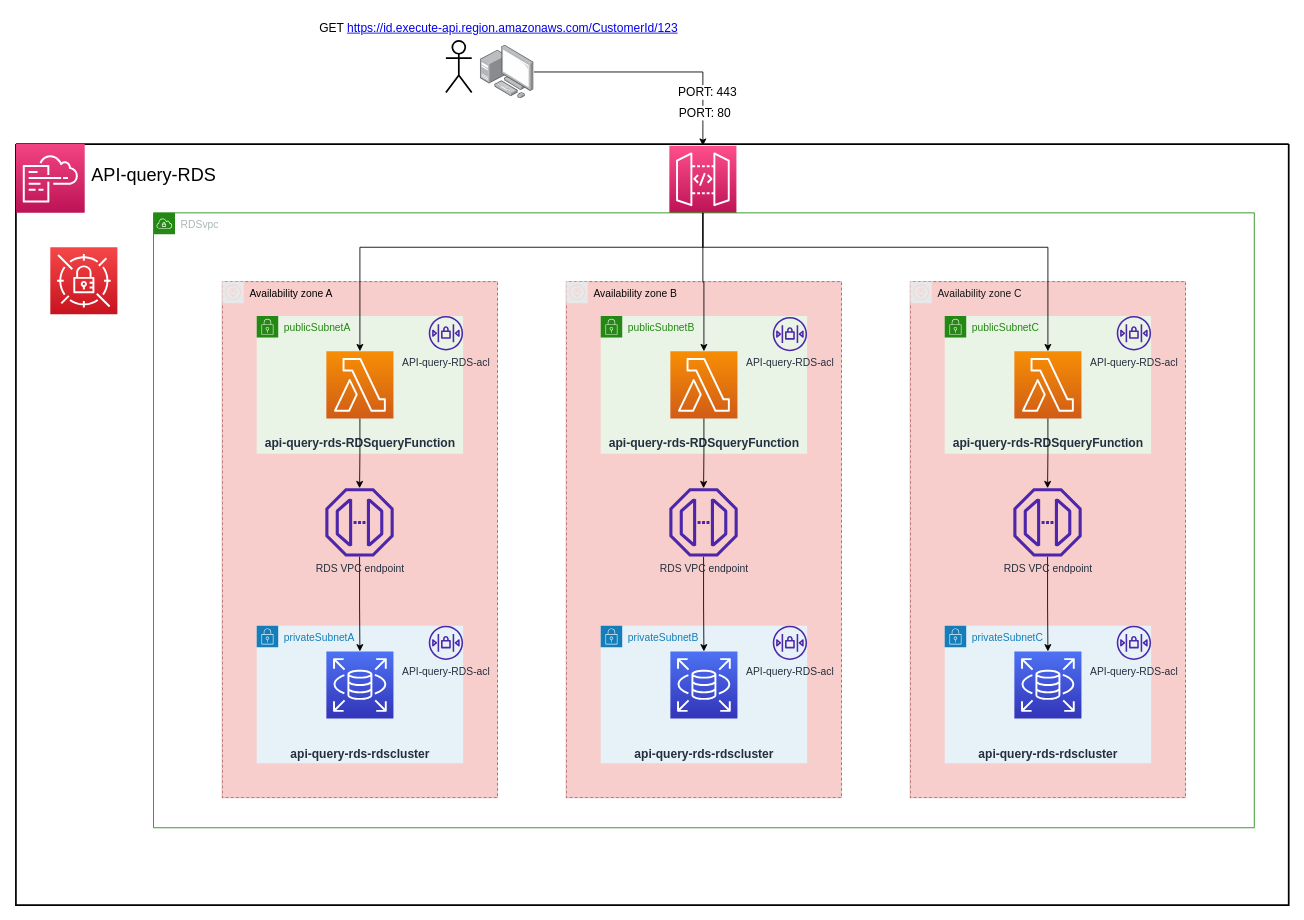
Some shapes in this 1304 by 920 pixel diagram are drawn without their labels. The centre of each missing label's shape, as x and y in pixels:
"Actor" belongs at point (458, 66).
"API-query-RDS-db-secret" belongs at point (83, 280).
